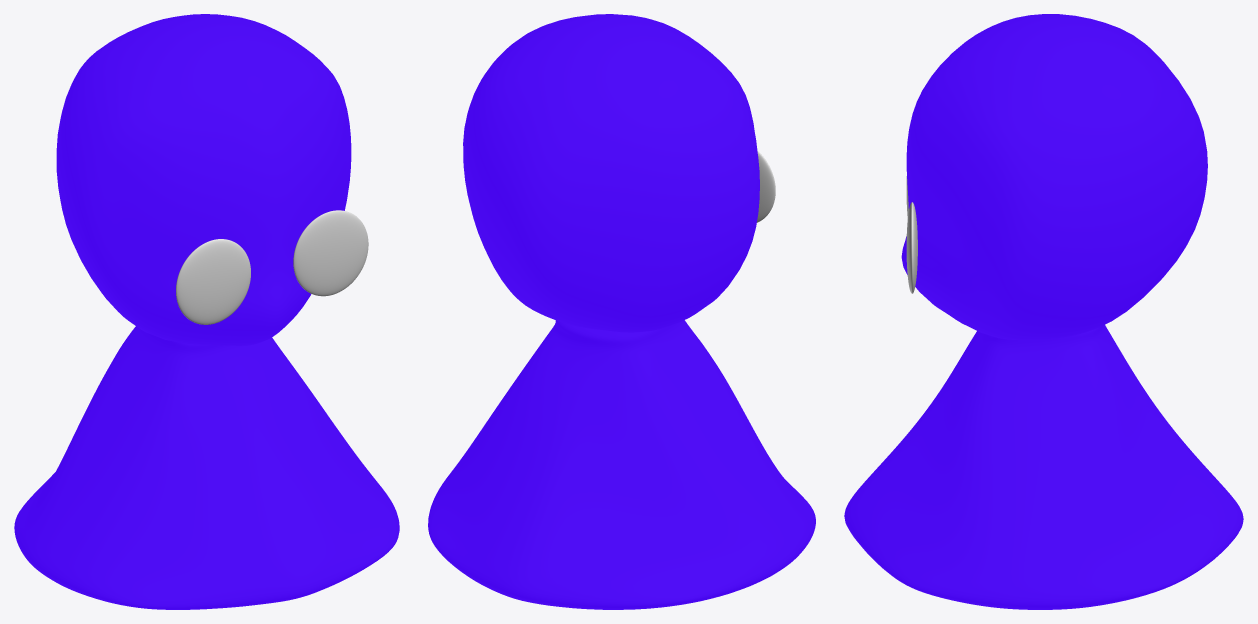
Rendered from Void.fbx.
The picture shows the model from 3 angles, left to right: view 1: azimuth 30°, elevation 25°; view 2: azimuth 150°, elevation 25°; view 3: azimuth 270°, elevation 25°; orthographic projection.
Parts seen in each view (by area): view 1: Roundcube.004, Roundcube.002, Sphere.002, Sphere.003; view 2: Roundcube.004, Roundcube.002, Sphere.003; view 3: Roundcube.002, Roundcube.004, Sphere.002.
Part boxes in pixels (x1=…): Roundcube.004: x1=14, y1=326, x2=399, y2=609; Roundcube.002: x1=56, y1=14, x2=351, y2=345; Sphere.002: x1=293, y1=210, x2=368, y2=296; Sphere.003: x1=176, y1=239, x2=250, y2=324; Roundcube.004: x1=428, y1=320, x2=815, y2=609; Roundcube.002: x1=463, y1=14, x2=759, y2=332; Sphere.003: x1=757, y1=150, x2=775, y2=222; Roundcube.002: x1=901, y1=14, x2=1207, y2=340; Roundcube.004: x1=844, y1=325, x2=1243, y2=609; Sphere.002: x1=906, y1=202, x2=917, y2=293.
Size of the model in its own units: 167 by 250 by 172.
